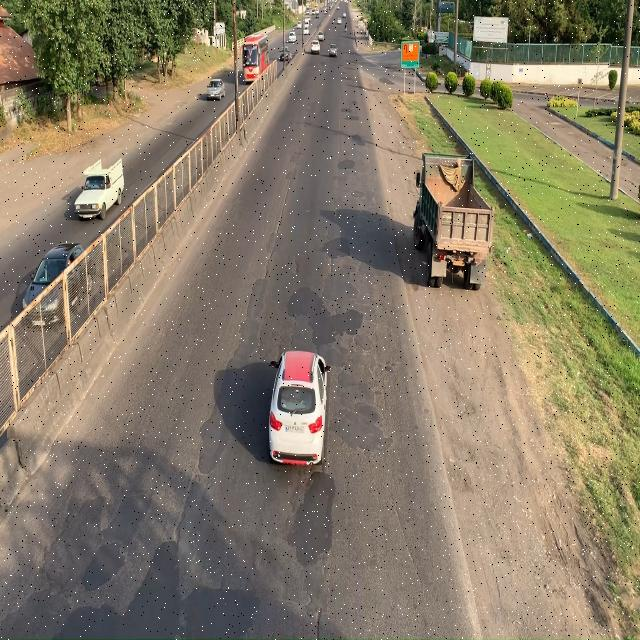Truck: (414, 152, 498, 292)
cars: (267, 348, 329, 468), (74, 158, 122, 218)
